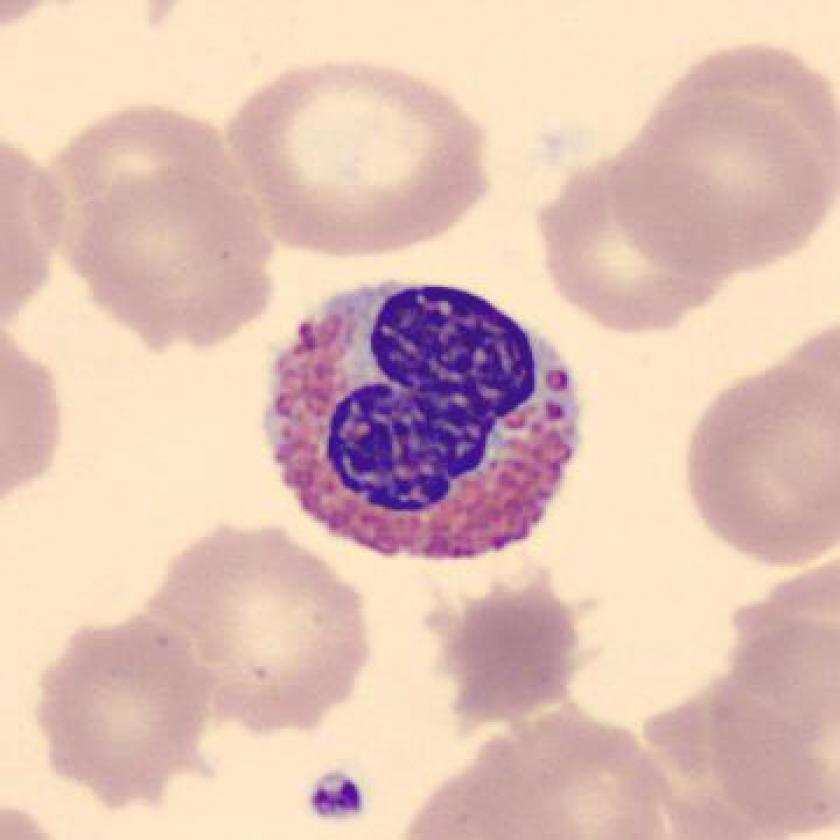eosinophil: (253, 262, 601, 575)
